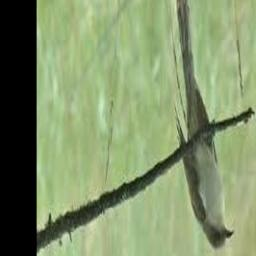Cuckoo: (172, 0, 233, 249)
